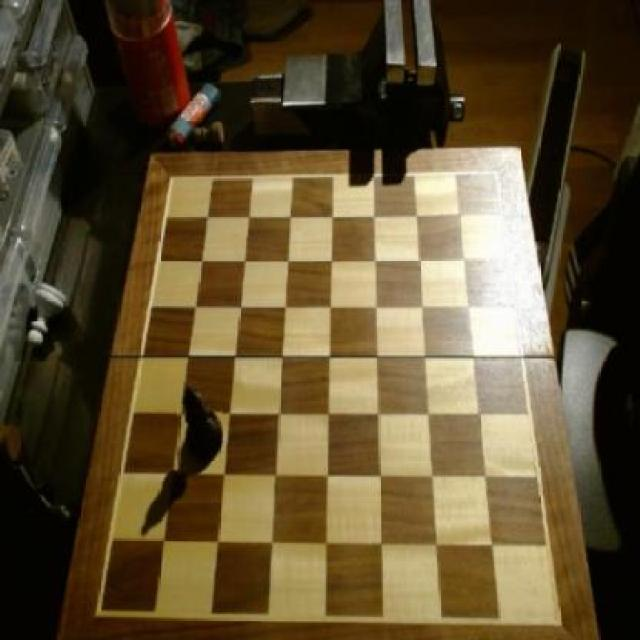bishop: (175, 380, 222, 462)
